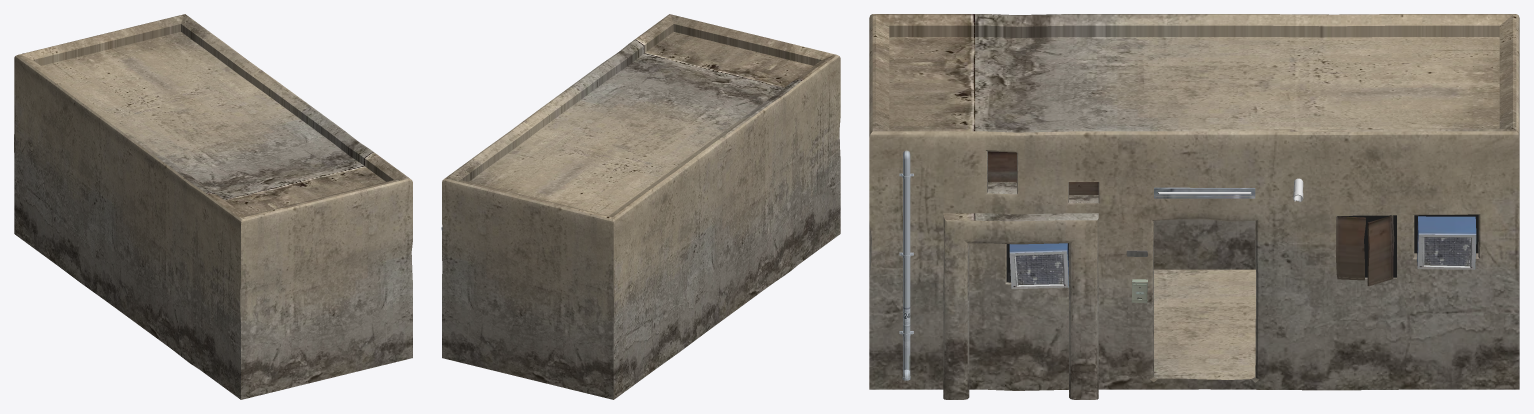
File: block.glb
3 renders of one model, left to right at view 1: azimuth 30°, elevation 25°; view 2: azimuth 150°, elevation 25°; view 3: azimuth 270°, elevation 25°, orthographic. The views are drawn at different scales.
Parts seen in each view (by area): view 1: Cube.001_wall_0; view 2: Cube.001_wall_0; view 3: Cube.001_wall_0, Cube.001_Mkyf_0, Cube.001_WINDOW WOD_0, Cube.001_Material.002_0, Cube.001_black_0, Cube.001_LAMP.001_0.
Boxes of the visible parts, box(x1,y1,x2,y2) form: Cube.001_wall_0: box(14, 14, 412, 399); Cube.001_wall_0: box(442, 14, 840, 399); Cube.001_wall_0: box(869, 14, 1519, 399); Cube.001_Mkyf_0: box(1009, 216, 1476, 289); Cube.001_WINDOW WOD_0: box(988, 151, 1394, 286); Cube.001_Material.002_0: box(899, 150, 913, 380); Cube.001_black_0: box(1006, 214, 1478, 282); Cube.001_LAMP.001_0: box(1154, 187, 1255, 198).
Size of the model in its own units: 3.77 by 3.46 by 7.86.
Materials: 9 (6 with a texture image).
